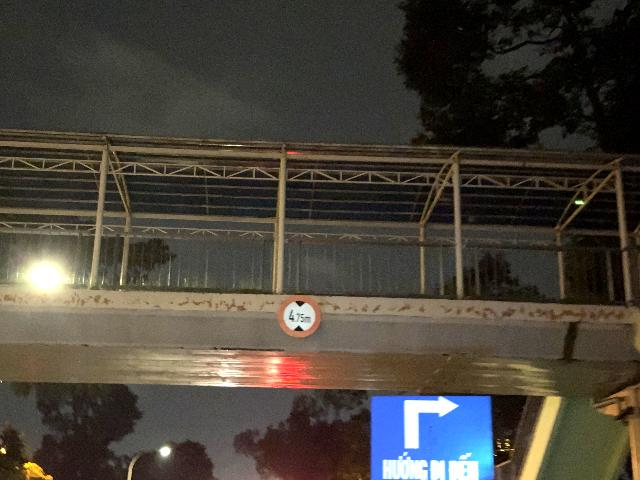han-che-chieu-cao: (278, 295, 321, 337)
